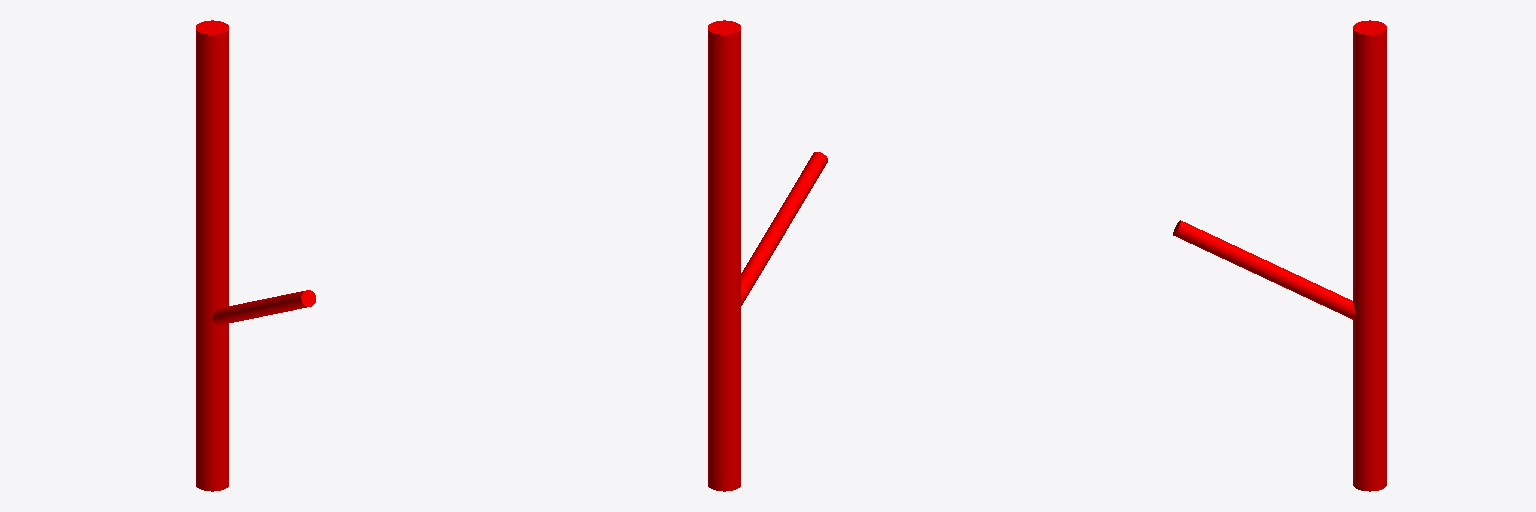
URDF robot description (tree.urdf):
<?xml version="1.0" ?>
<robot name="tree.urdf">
  <link name="baseLink">
    <inertial>
      <origin rpy="0 0 0" xyz="0 0 0"/>
       <mass value=".1"/>
       <inertia ixx="1" ixy="0" ixz="0" iyy="1" iyz="0" izz="1"/>
    </inertial>
    <contact>
      <lateral_friction value="1.0"/>
      <inertia_scaling value="3.0"/>
    </contact>
    <visual>
      <origin rpy="0 0 0" xyz="0 0 0"/>
      <geometry>
        <mesh filename="7.stl" scale="1 1 1" />
      </geometry>
      <material name="red">
        <color rgba="1 0 0 1"/>
      </material>
    </visual>
    <collision>
      <origin rpy="0 0 0" xyz="0 0 0"/>
      <geometry>
        <mesh filename="7_convex.obj" scale="1 1 1" />
      </geometry>
    </collision>
  </link>
</robot>

--- Render facts (derived) ---
3 views of the same robot in one strip: view 1: azimuth 30°, elevation 25°; view 2: azimuth 150°, elevation 25°; view 3: azimuth 270°, elevation 25° (orthographic).
Robot: tree.urdf — 1 links, 0 joints (none); root link baseLink; default pose: every joint at zero.
Links seen in each view (by area): view 1: baseLink; view 2: baseLink; view 3: baseLink.
Link boxes in pixels (box(x1,y1,x2,y2)): baseLink: box(196, 20, 315, 491); baseLink: box(708, 20, 827, 491); baseLink: box(1173, 20, 1386, 491).
Bounding box of the posed robot: 0.0312 × 0.1971 × 0.4645 m (x, y, z).
Meshes: 1 distinct files referenced, 1 mesh visuals loaded (1 binary STL).